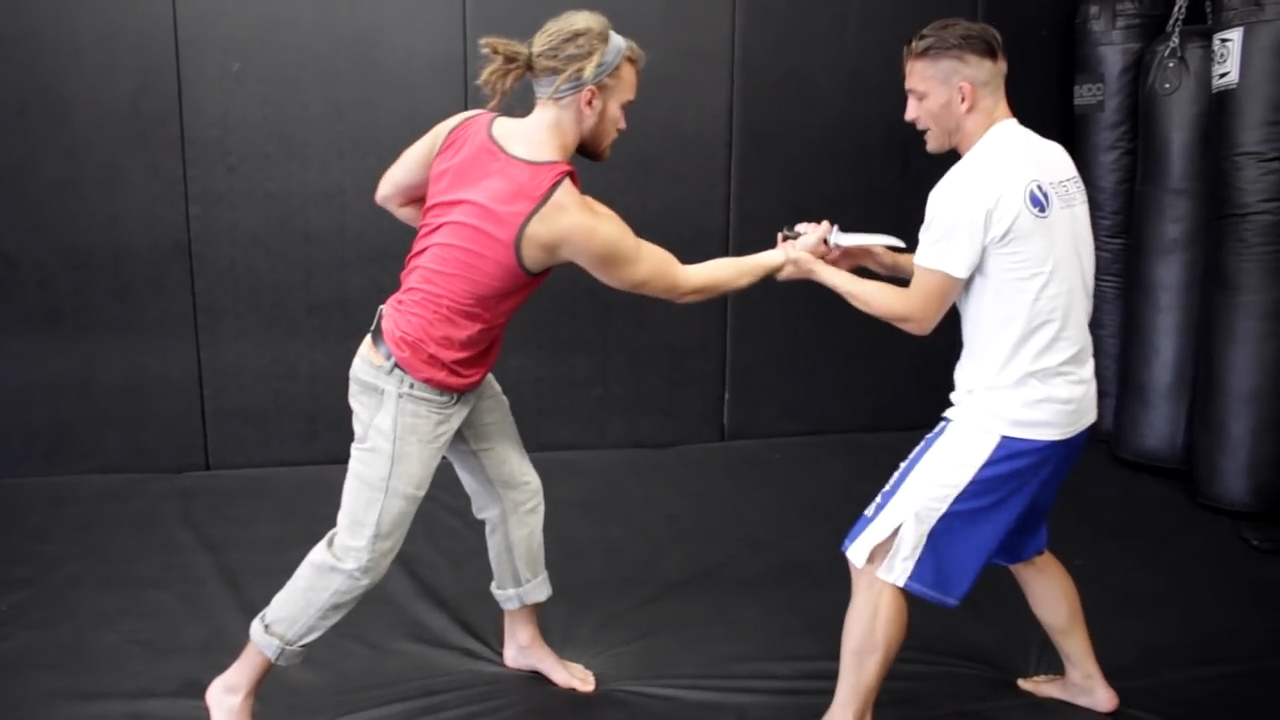knife: (773, 216, 915, 262)
